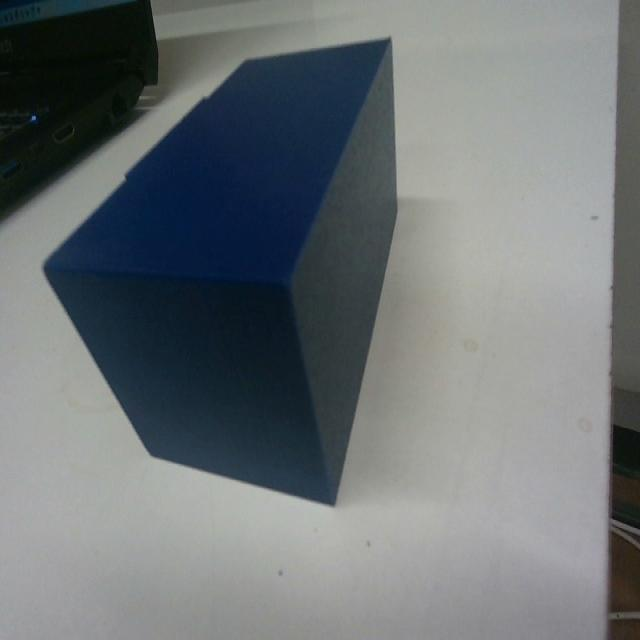Blue Cuboid: (42, 32, 400, 507)
